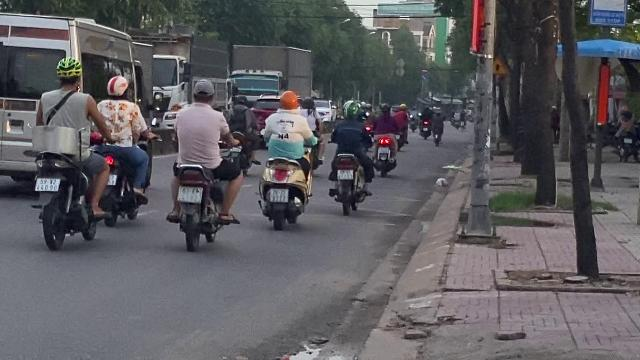helmet: (54, 57, 82, 87), (106, 75, 130, 99), (278, 90, 298, 110), (341, 100, 361, 120)
licenseplate: (178, 186, 202, 204), (35, 178, 59, 190), (270, 189, 288, 202), (338, 170, 352, 180)
motorcyclist: (26, 57, 110, 251), (162, 78, 242, 250), (255, 88, 317, 229), (97, 73, 153, 225), (326, 100, 374, 214)
nohelmet: (190, 80, 216, 104)
